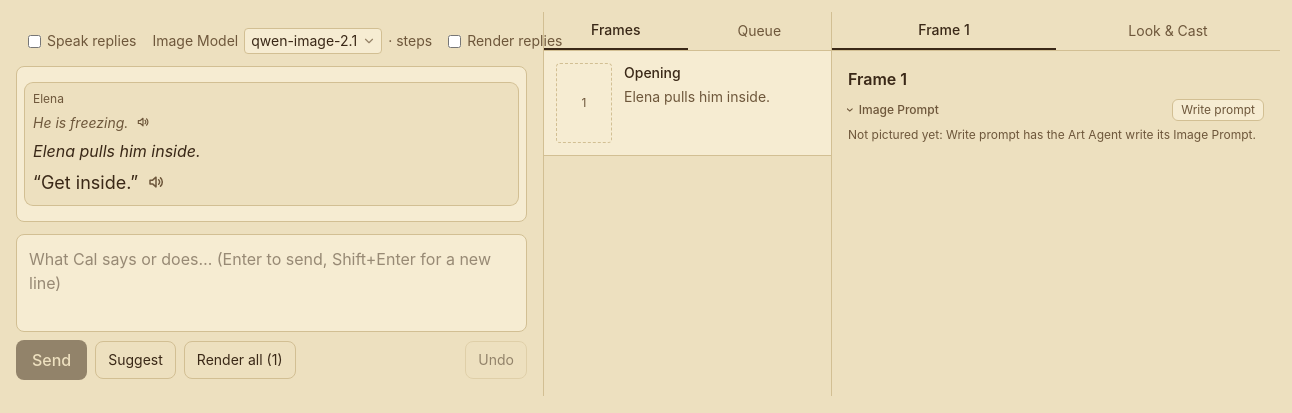
Test: RoleplayView › puts back what was typed when a suggestion fails
Replace the text in the text box with "grab her" at (272, 283), box [16,234,527,332]
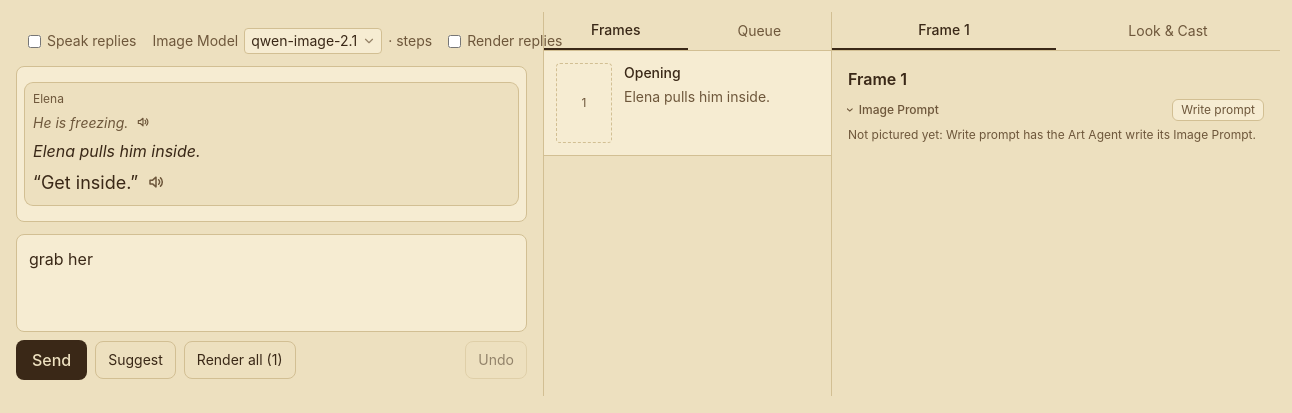
Click the button "Suggest" at (136, 360), box [95,341,176,379]
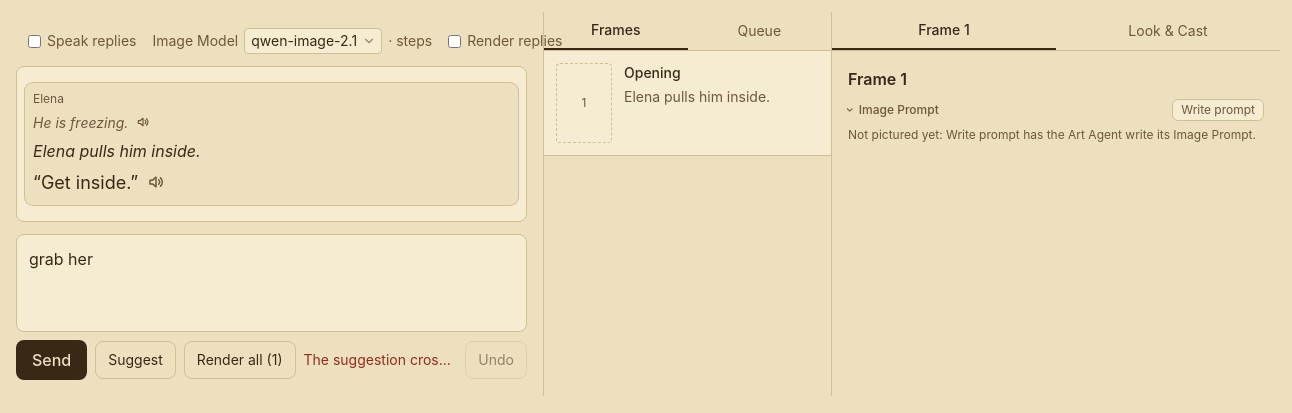
Check: the message "The suggestion crossed a limit" is shown, box [304,350,457,370]
